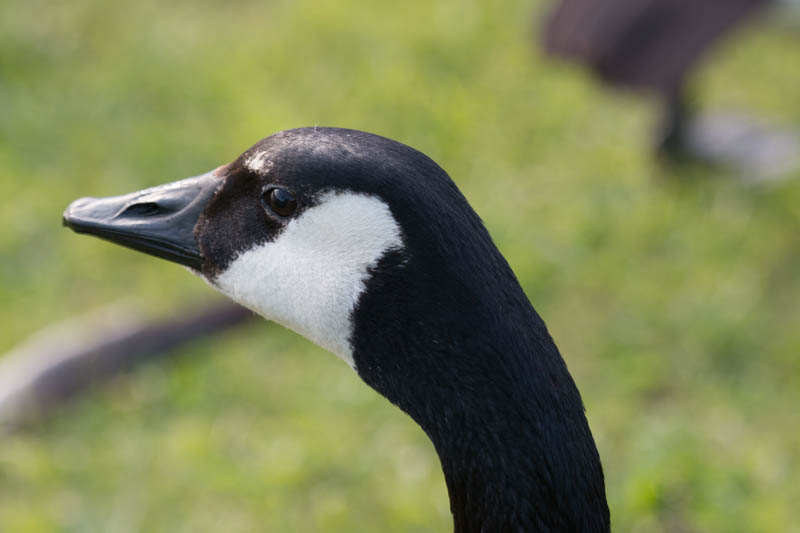goose-head: (63, 126, 480, 394)
